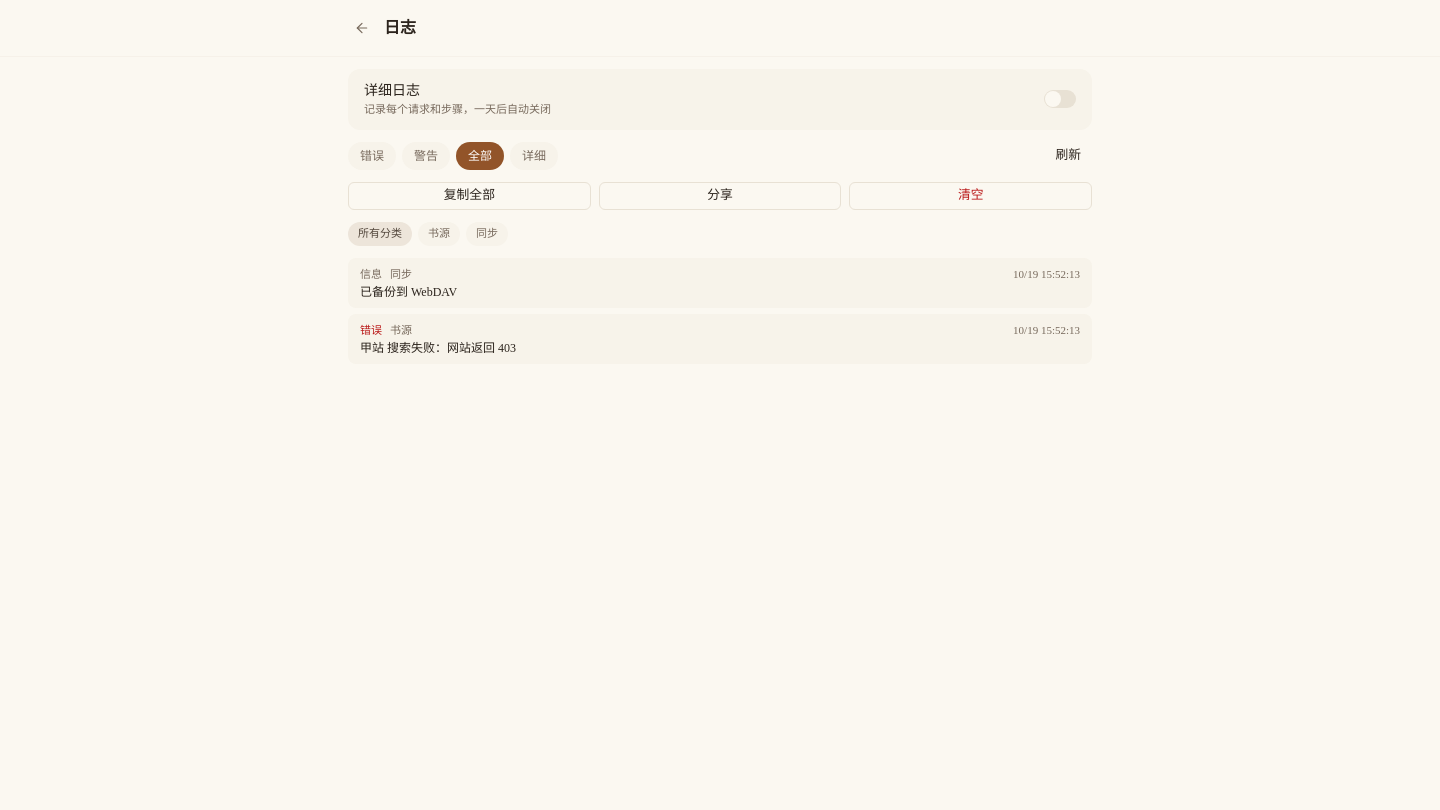
日志 › lists entries by level and clears them
Expected: the text "甲站 搜索失败：网站返回 403" is shown, [360,340,516,354]
Expected: the text "已备份到 WebDAV" is shown, [360,284,457,298]
What coordinates should you click on to do the following:
click the button "错误"
I would click on:
 (372, 156)
Its box is [348,142,396,170].
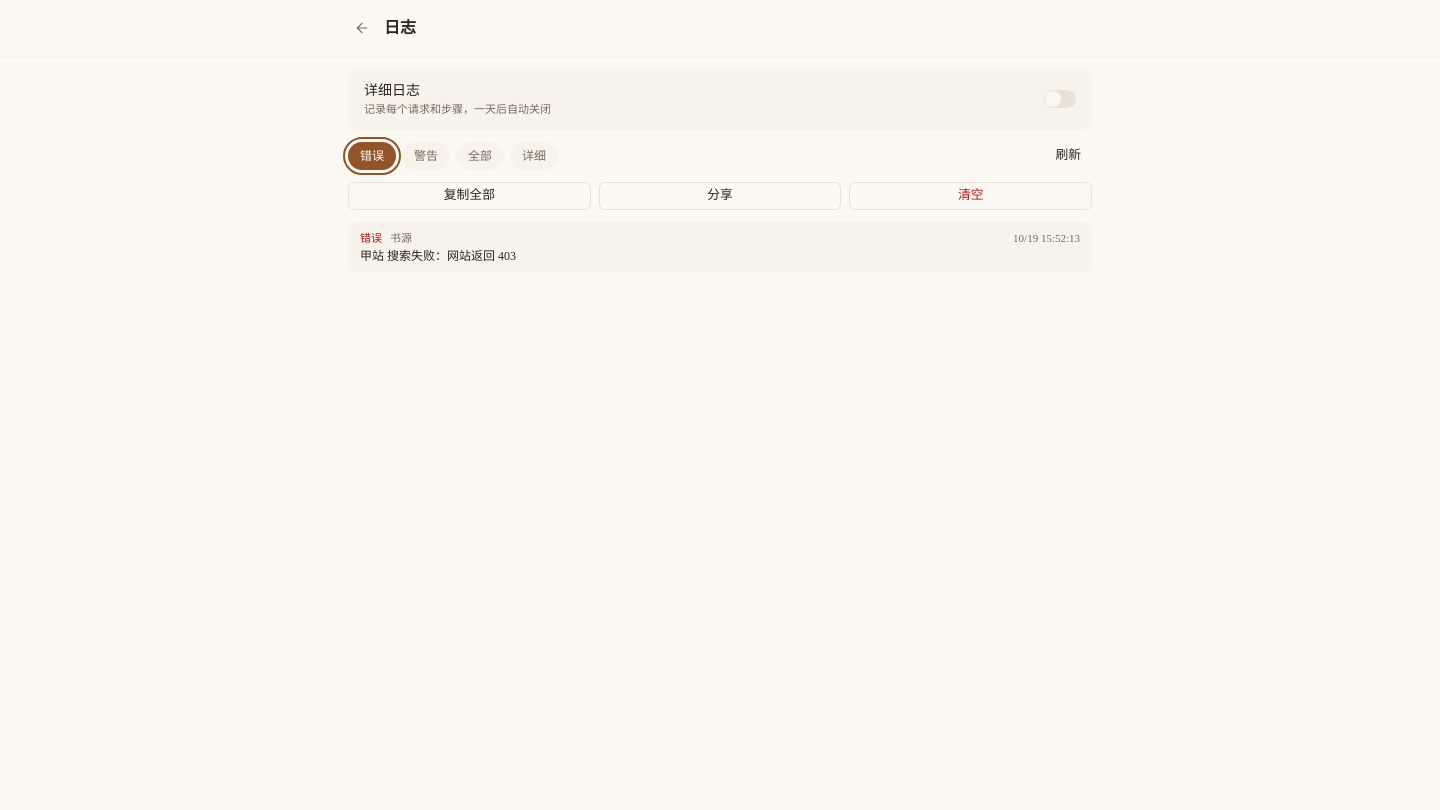
Expected: the text "甲站 搜索失败：网站返回 403" is shown, [360,248,516,262]
Expected: the text "已备份到 WebDAV" is gone
What coordinates should you click on to do the following:
click the button "清空"
I would click on:
 (971, 196)
Its box is [849,182,1092,210].
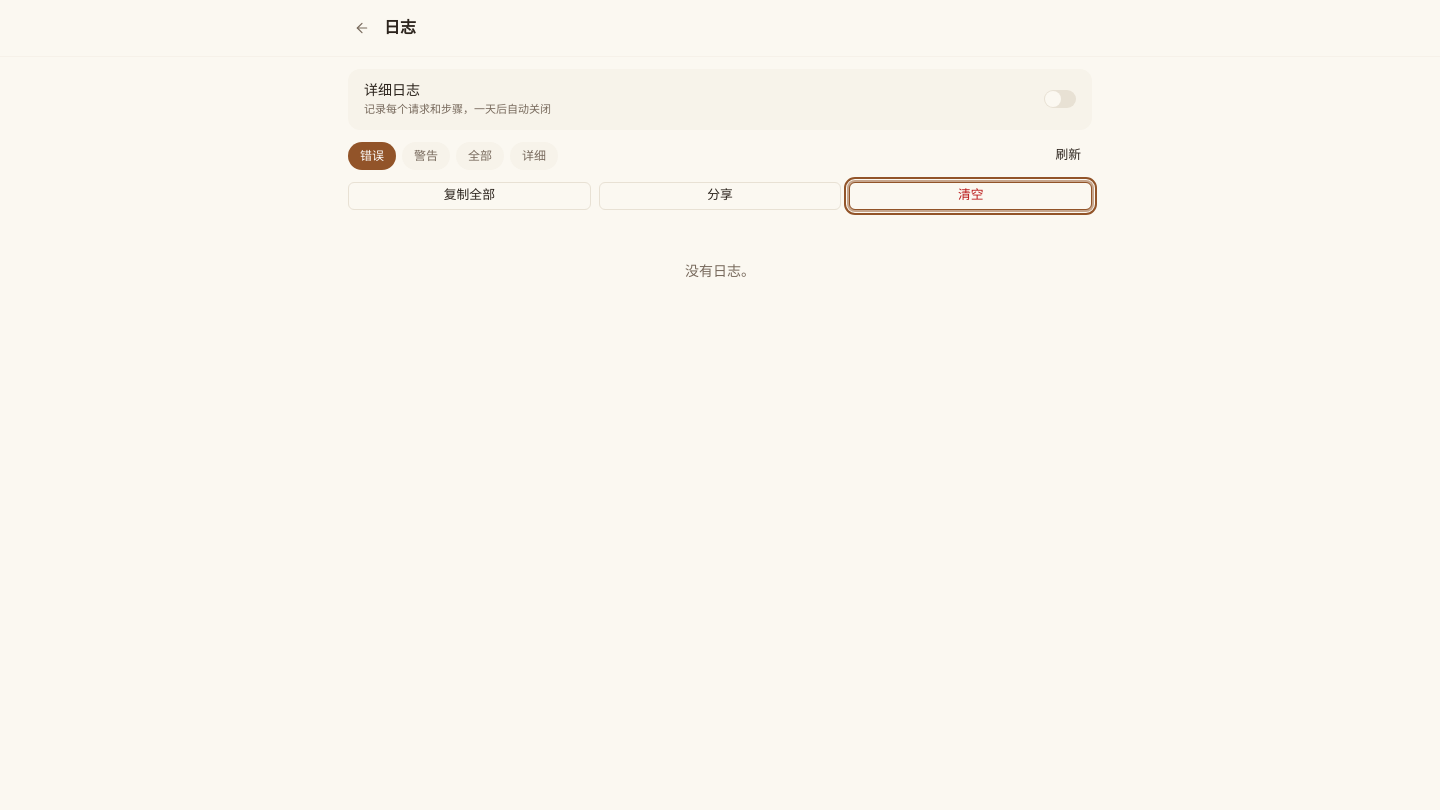
Expected: the text "没有日志。" is shown, [685,264,755,278]
